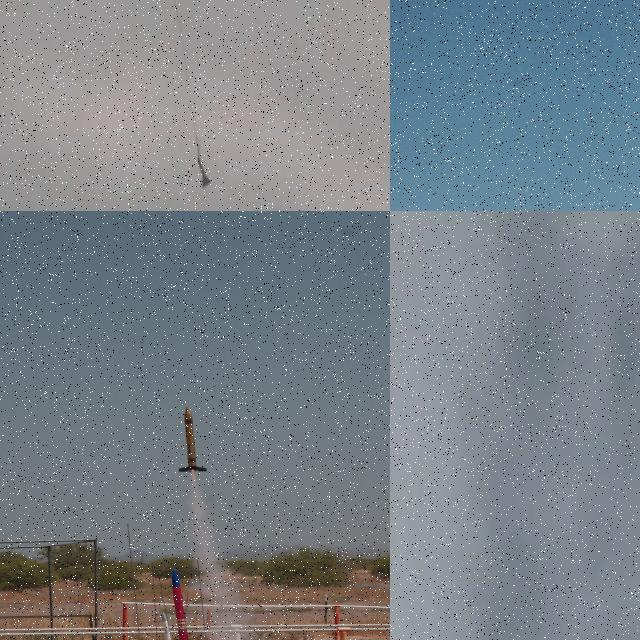Rocket: (171, 569, 203, 640), (178, 407, 208, 472), (161, 611, 183, 640), (198, 157, 211, 189)
